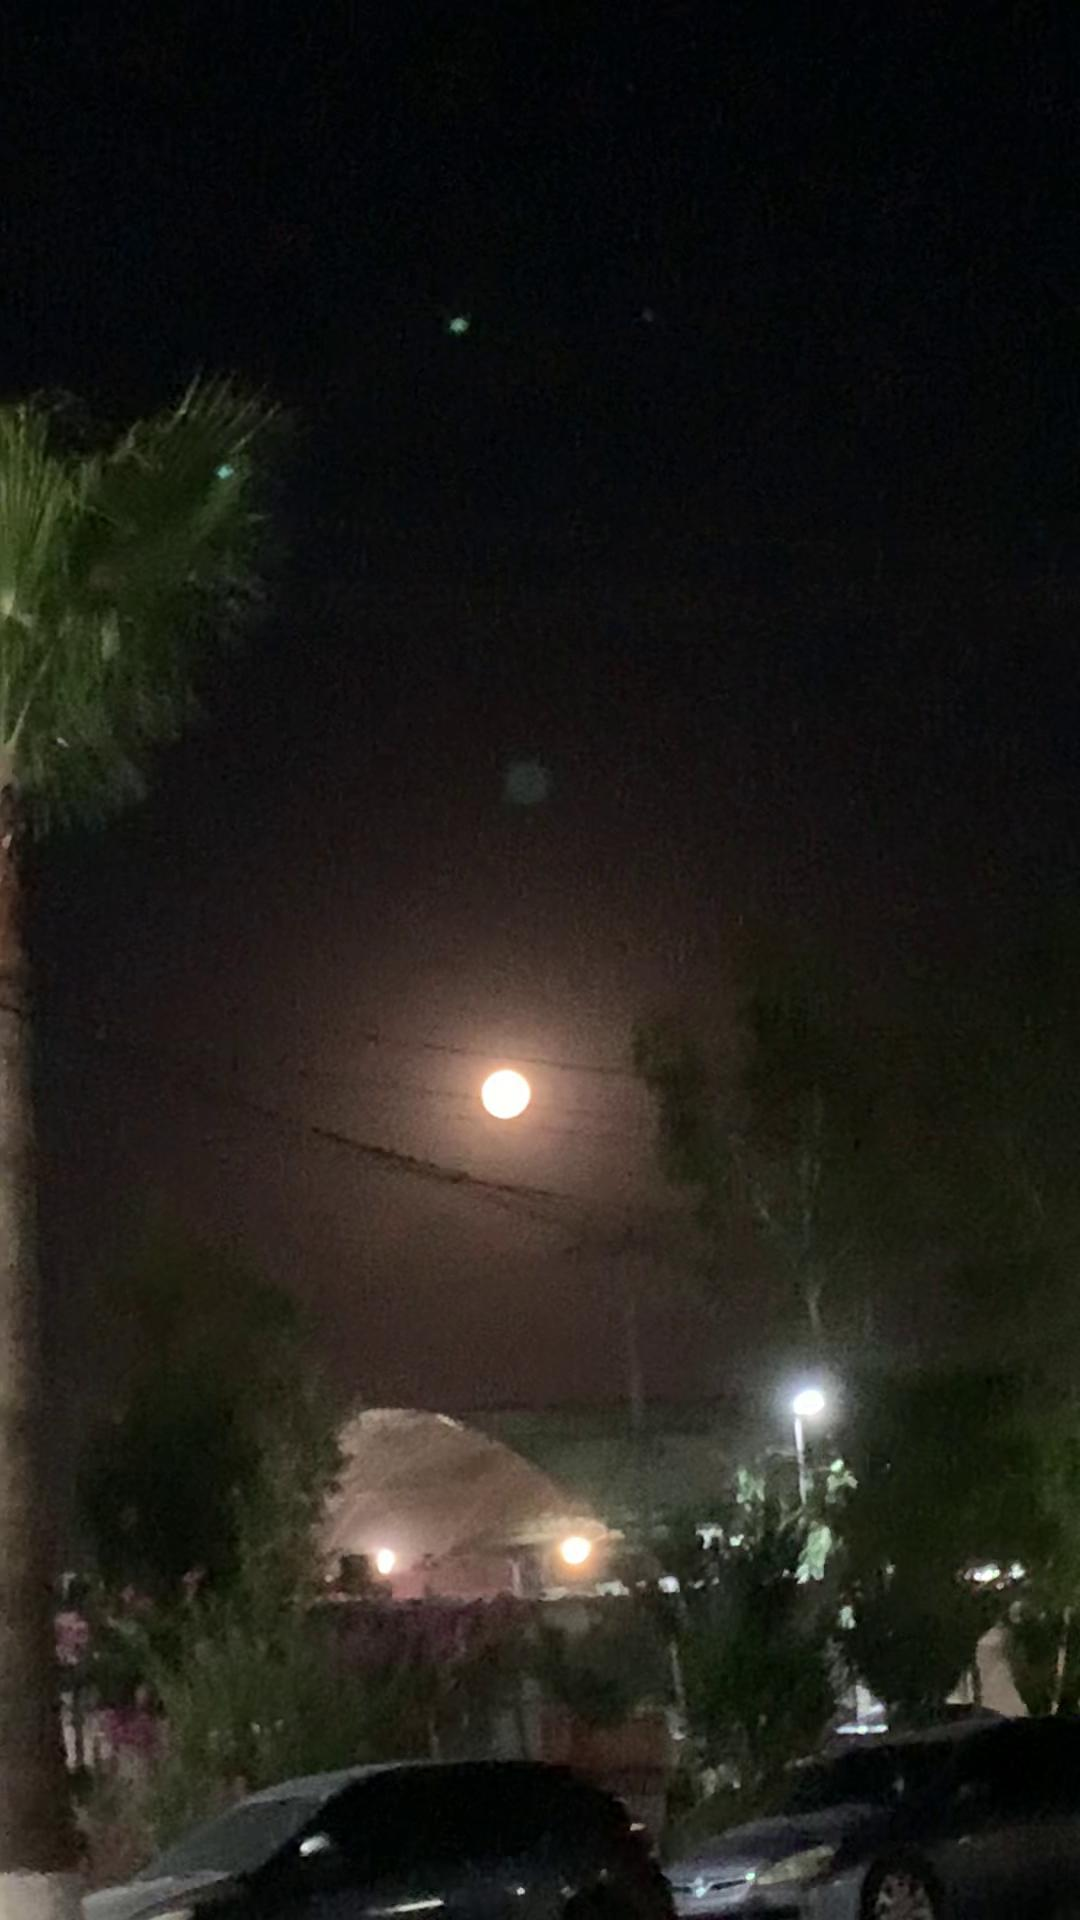moon: (447, 1050, 555, 1145)
